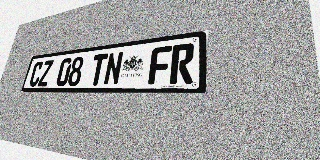0: (55, 57, 73, 86)
8: (67, 56, 85, 86)
C: (28, 61, 44, 87)
F: (148, 45, 172, 84)
N: (103, 51, 124, 85)
R: (169, 43, 195, 84)
T: (88, 53, 108, 86)
Z: (37, 60, 54, 87)
